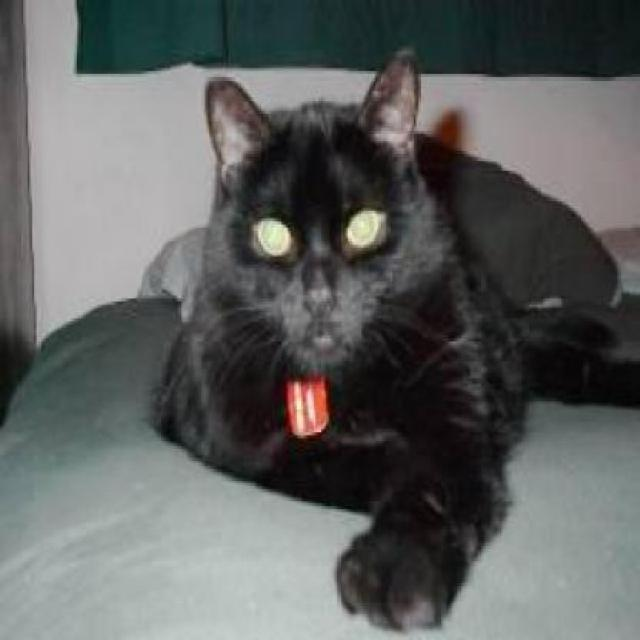cat: (153, 48, 638, 638)
